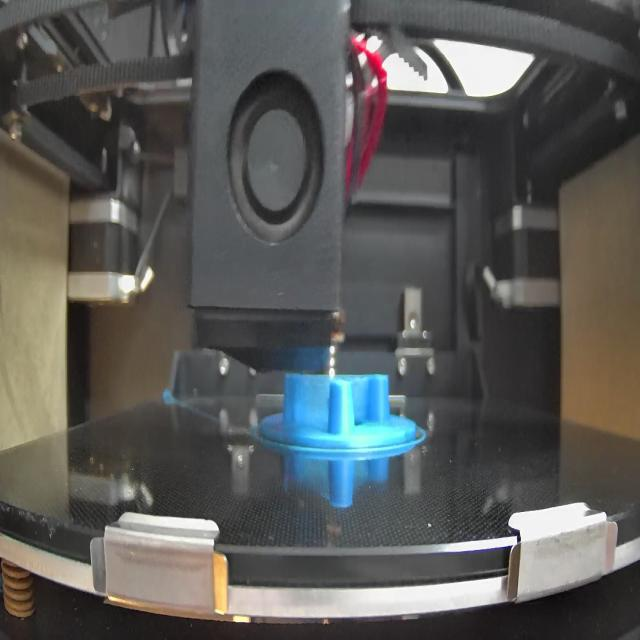stringing: (295, 376, 328, 434), (351, 372, 372, 425)
